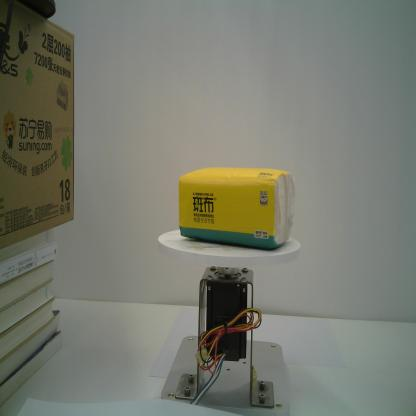Tissue: (177, 164, 297, 251)
